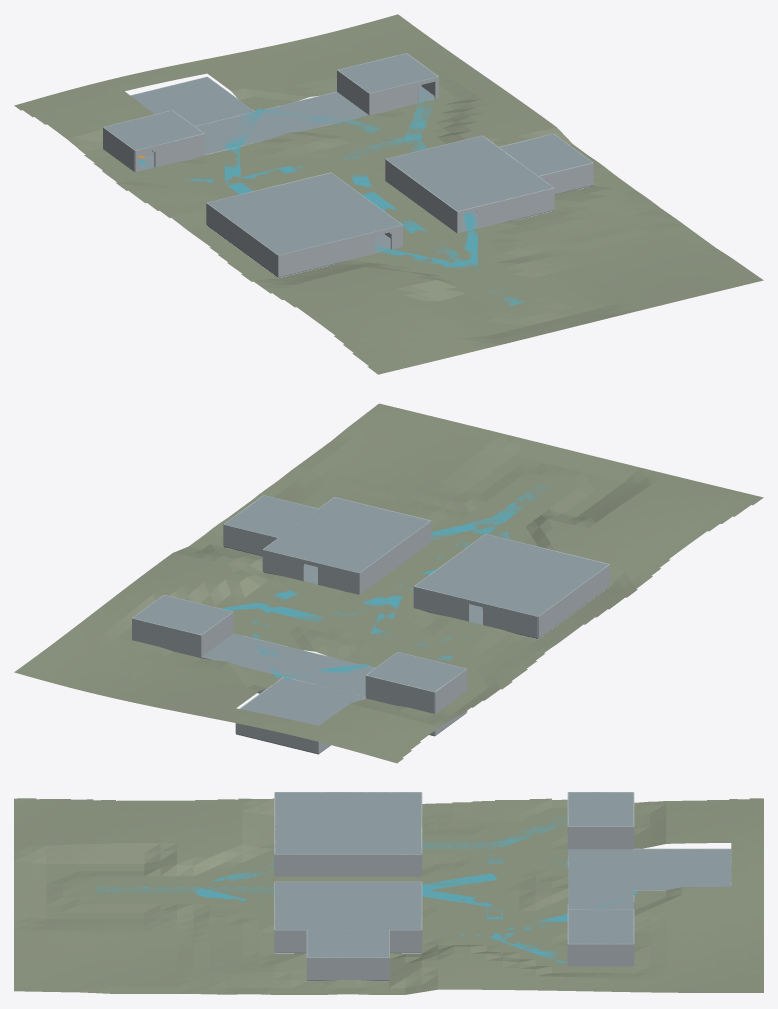
File: open-circulation.glb
The picture shows the model from 3 angles, top to bottom: view 1: azimuth 30°, elevation 25°; view 2: azimuth 150°, elevation 25°; view 3: azimuth 270°, elevation 25°; orthographic projection. The views are drawn at different scales.
Parts seen in each view (by area): view 1: Saved editor terrain WLD-07, Ceiling cap chapel, Ceiling cap cottage, Ceiling cap chamber, Flat route shell Wall chapel S, Ceiling cap west-stair, Ceiling cap east-stair, Ceiling cap tool, Ceiling cap ossuary.002, Ceiling cap ossuary, Flat route shell Wall cottage S.001, Wall cottage W (+7 smaller); view 2: Saved editor terrain WLD-07, Ceiling cap chapel, Ceiling cap cottage, Ceiling cap chamber, Ceiling cap east-stair, Ceiling cap tool, Ceiling cap west-stair, Ceiling cap ossuary, Ceiling cap ossuary.002, Wall cottage W, Wall chapel W, Wall east-stair N (+10 smaller); view 3: Saved editor terrain WLD-07, Ceiling cap chapel, Ceiling cap cottage, Ceiling cap chamber, Wall chapel E, Ceiling cap east-stair, Ceiling cap west-stair, Ceiling cap tool, Wall tool E, Ceiling cap ossuary, Ceiling cap ossuary.002, Wall west-stair E (+9 smaller).
Boxes of the visible parts, x1,y1,x2,y2 form: Saved editor terrain WLD-07: (14,14,763,374); Ceiling cap chapel: (207,173,401,255); Ceiling cap cottage: (386,135,553,211); Ceiling cap chamber: (131,77,254,126); Flat route shell Wall chapel S: (278,231,376,276); Ceiling cap west-stair: (104,110,203,149); Ceiling cap east-stair: (338,53,437,92); Ceiling cap tool: (499,134,592,175); Ceiling cap ossuary.002: (204,106,368,154); Ceiling cap ossuary: (195,92,348,135); Flat route shell Wall cottage S.001: (476,188,554,228); Wall cottage W: (385,159,457,233); Saved editor terrain WLD-07: (14,403,763,763); Ceiling cap chapel: (415,534,608,616); Ceiling cap cottage: (263,497,429,572); Ceiling cap chamber: (240,677,365,725); Ceiling cap east-stair: (133,595,232,634); Ceiling cap tool: (224,495,317,537); Ceiling cap west-stair: (367,652,465,691); Ceiling cap ossuary: (202,648,365,696); Ceiling cap ossuary.002: (221,634,374,677); Wall cottage W: (359,521,431,594); Wall chapel W: (538,564,609,638); Wall east-stair N: (132,618,201,656); Saved editor terrain WLD-07: (14,798,763,994); Ceiling cap chapel: (275,792,421,854); Ceiling cap cottage: (275,882,421,929); Ceiling cap chamber: (633,849,731,890); Wall chapel E: (275,854,421,876); Ceiling cap east-stair: (568,909,633,943); Ceiling cap west-stair: (568,792,633,826); Ceiling cap tool: (307,930,388,957); Wall tool E: (307,957,388,979); Ceiling cap ossuary: (608,849,633,909); Ceiling cap ossuary.002: (568,849,593,909); Wall west-stair E: (568,826,633,849).
Size of the model in its own units: 56 by 6.16 by 92.
